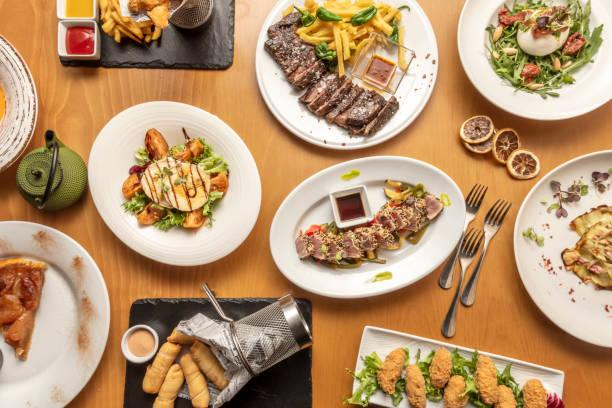Braised Crucian Carp: (86, 101, 256, 264), (267, 155, 459, 299), (255, 0, 434, 150), (121, 295, 309, 407), (0, 220, 112, 407), (512, 149, 611, 350), (457, 1, 611, 123), (348, 325, 563, 408)
